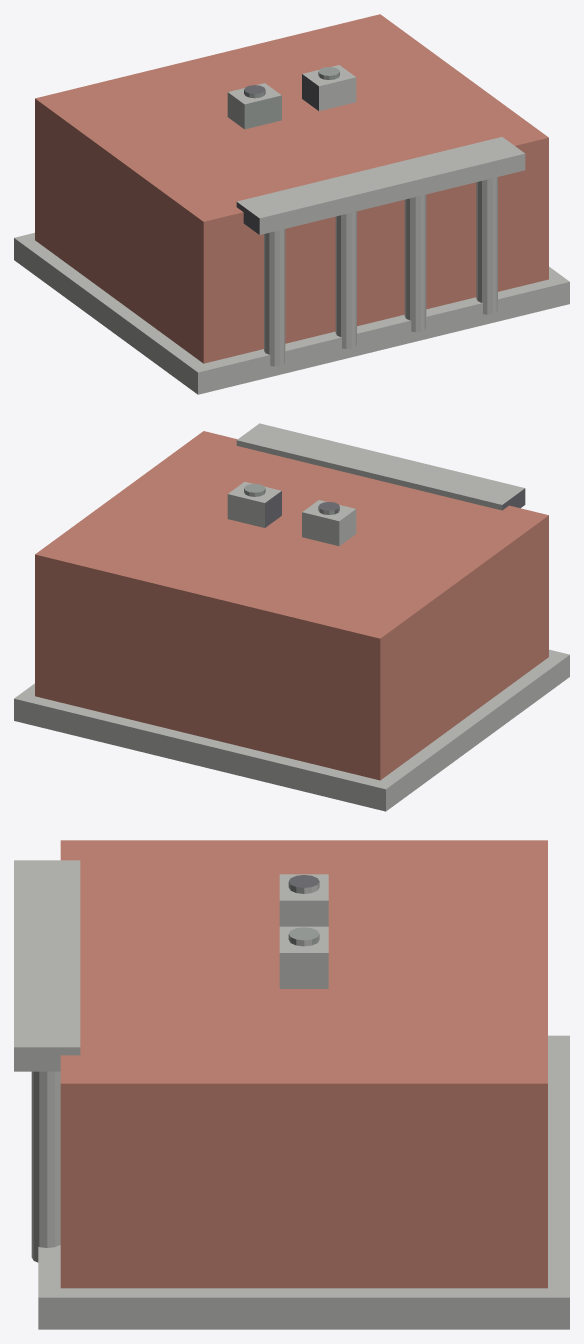
The model's file is bank_branch_vault.glb.
The picture shows the model from 3 angles, top to bottom: view 1: azimuth 30°, elevation 25°; view 2: azimuth 150°, elevation 25°; view 3: azimuth 270°, elevation 25°; orthographic projection. The views are drawn at different scales.
Parts seen in each view (by area): view 1: bank_branch_vault; view 2: bank_branch_vault; view 3: bank_branch_vault.
Boxes of the visible parts, left/top/right/bottom form: bank_branch_vault: left=14, top=14, right=569, bottom=394; bank_branch_vault: left=14, top=423, right=569, bottom=811; bank_branch_vault: left=14, top=840, right=569, bottom=1329.
Bounding box in the file's own units: 14 × 7.25 × 12.55.
